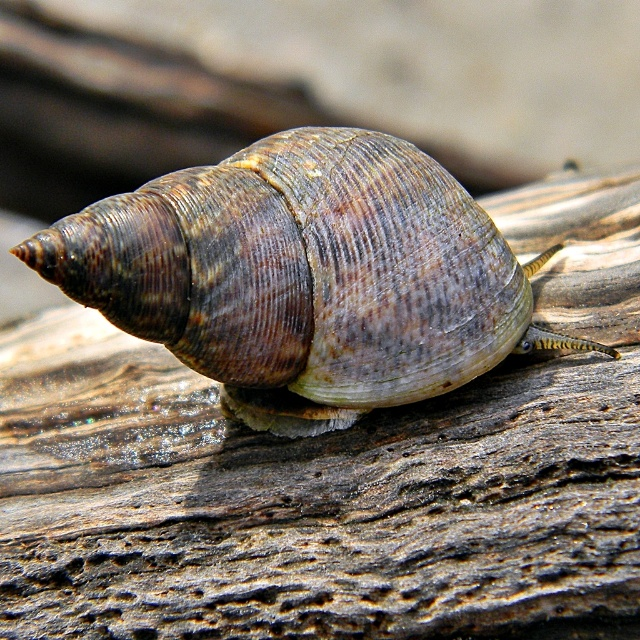Snail: (11, 124, 619, 441)
